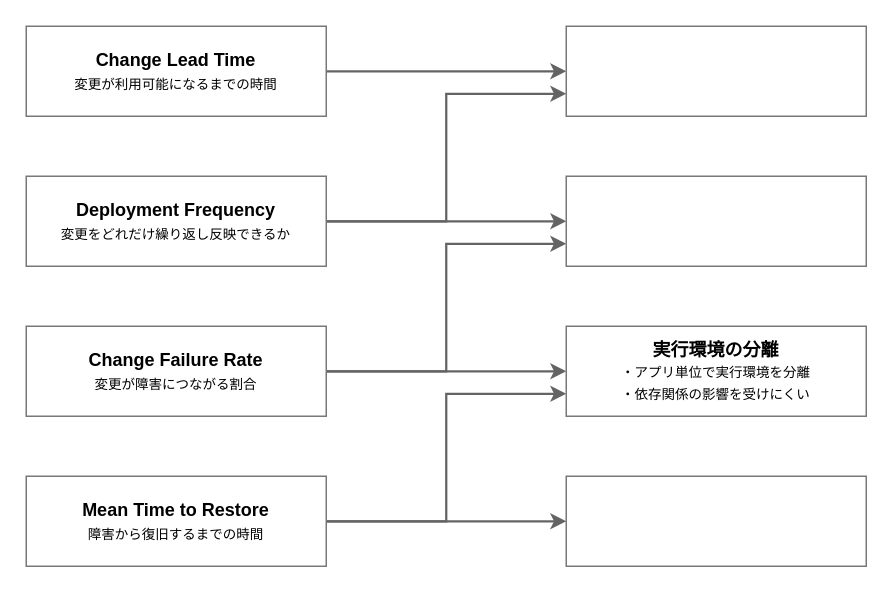
The diagram is 893 pixels wide and 593 high, and some of its shapes have lost their labels. Each missing label, with the centre of its shape:
"アプリ単位の独立性 ・アプリごとに独立した変更単位 ・影響範囲を限定しやすい" goes at point (715, 70).
"復旧を前提とした構造 ・切り戻し対象を特定しやすい ・復旧判断が単純になる" goes at point (715, 520).
"疎結合な構成 ・変更の影響を局所化 ・他のアプリに波及しにくい" goes at point (715, 220).
